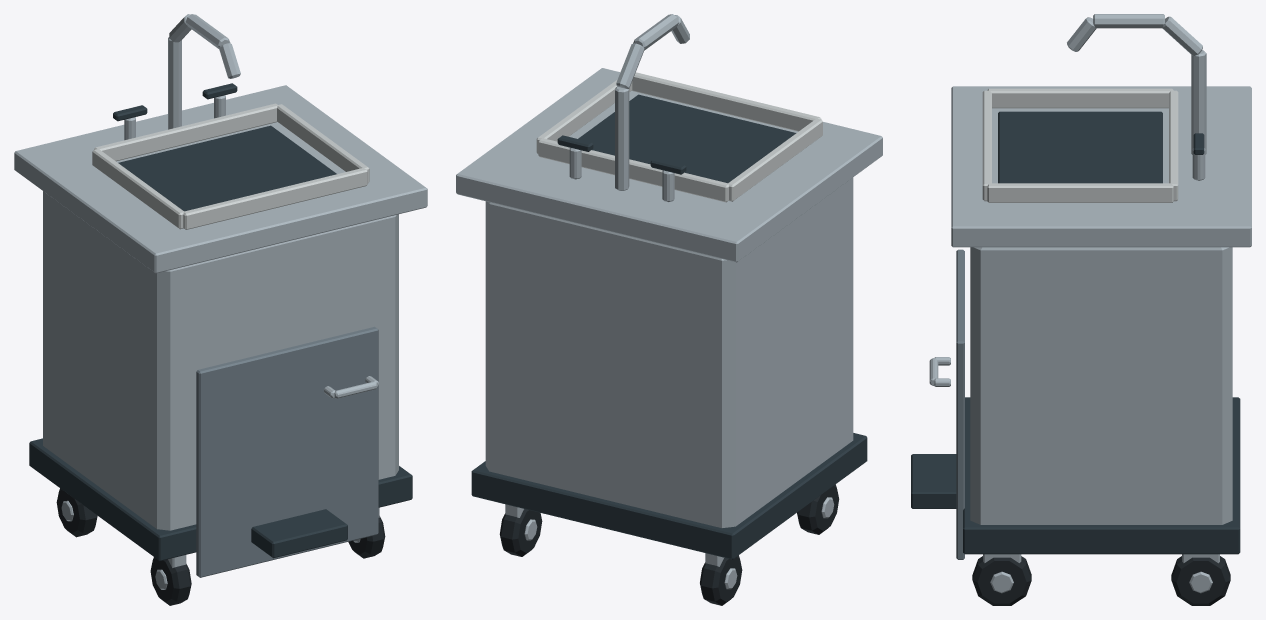
Rendered from b10_portable_commercial_handwash_sink.glb.
3 views of the same model, side by side, from view 1: azimuth 30°, elevation 25°; view 2: azimuth 150°, elevation 25°; view 3: azimuth 270°, elevation 25° (orthographic). The views are drawn at different scales.
Visible parts, largest first — view 1: b10_portable_commercial_handwash_sink; view 2: b10_portable_commercial_handwash_sink; view 3: b10_portable_commercial_handwash_sink.
Part boxes in pixels (x1,y1,x2,y2): b10_portable_commercial_handwash_sink: (14,14,427,605); b10_portable_commercial_handwash_sink: (456,14,882,605); b10_portable_commercial_handwash_sink: (911,14,1251,605).
Size of the model in its own units: 0.79 by 1.4 by 0.805.
